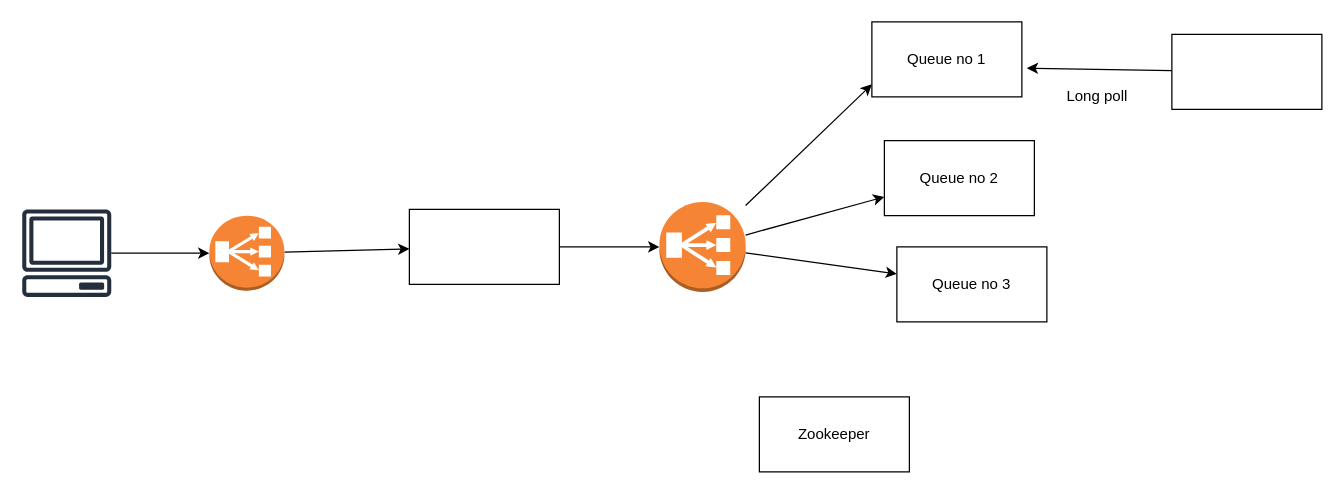
The diagram is 1344 pixels wide and 494 high, and some of its shapes have lost their labels. The box of each missing label's shape, as (x1, y1, x2, y2) in pixels:
Authentication Service: (408, 208, 559, 284)
Consumer: (1171, 33, 1322, 109)
